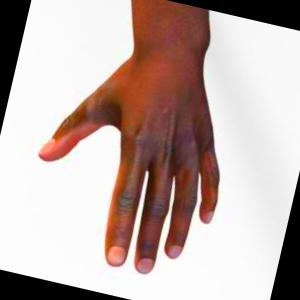paper: (39, 0, 219, 273)
